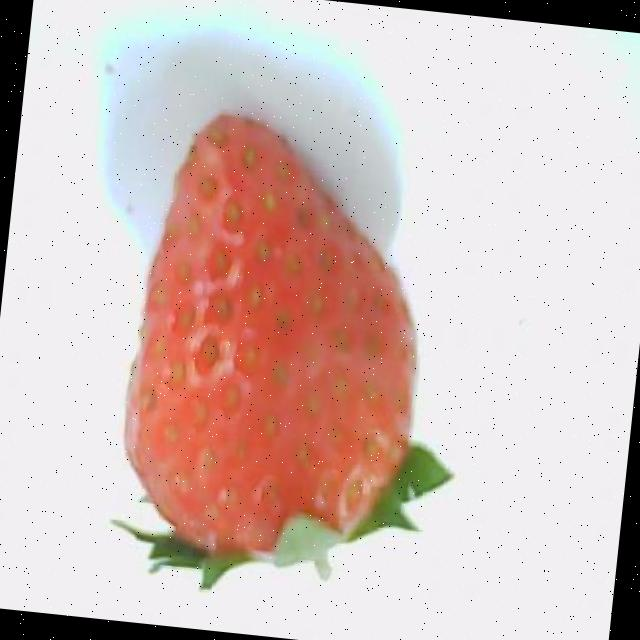strawberry: (119, 115, 450, 588)
